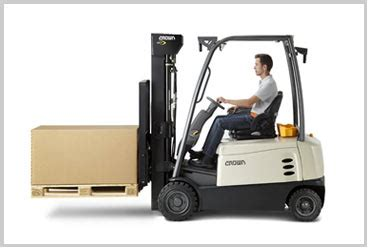Pallet Jack: (30, 31, 329, 222)
